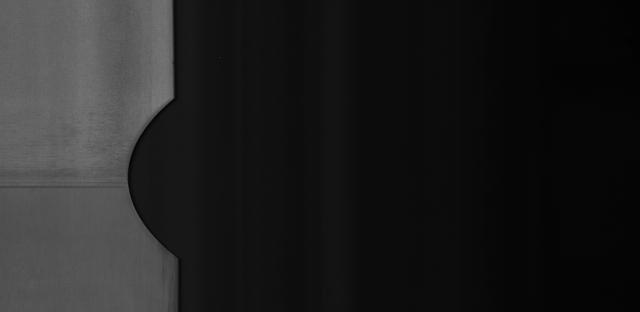crescent_gap: (120, 94, 216, 262), (1, 174, 140, 196)
